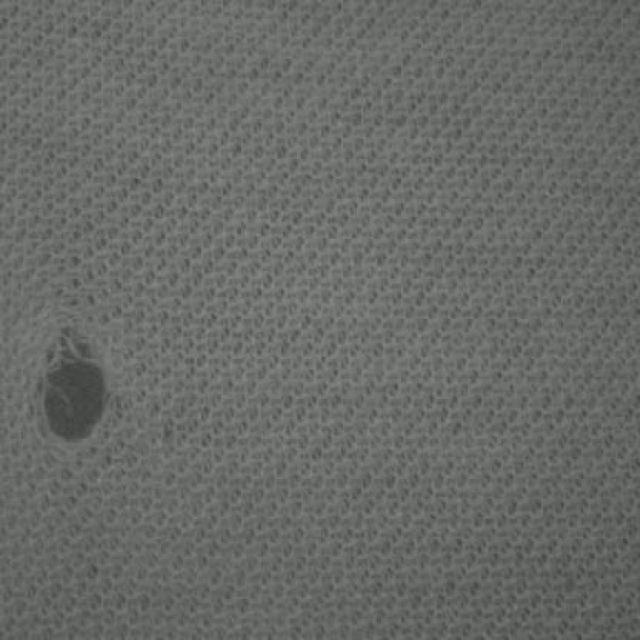Hole: (43, 330, 108, 442)
